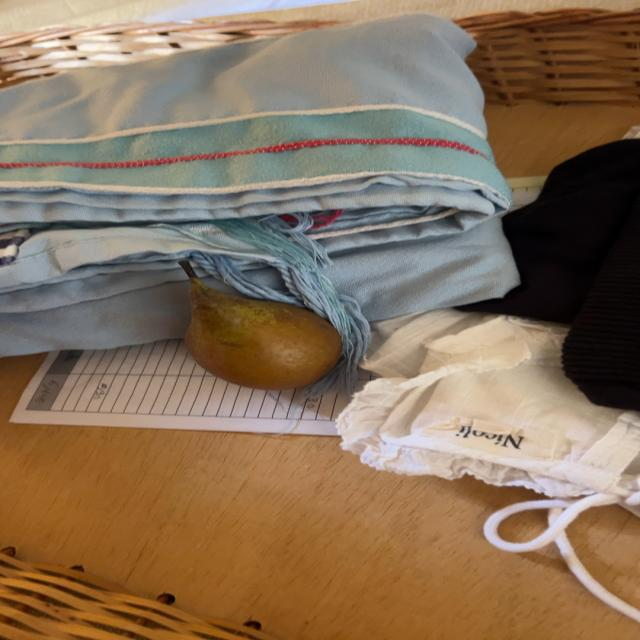pear: (181, 261, 341, 389)
